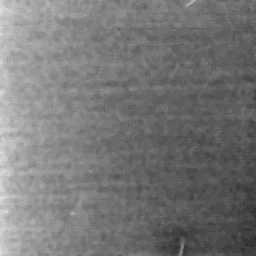sct: (170, 233, 208, 256)
